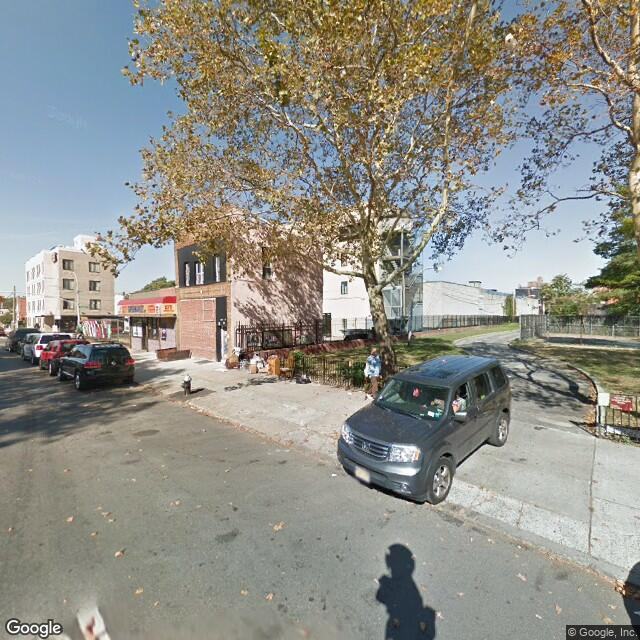litter: (604, 420, 621, 438), (215, 366, 225, 374), (631, 608, 640, 616), (330, 471, 338, 478), (126, 382, 134, 388), (344, 387, 350, 394), (131, 399, 136, 406)
